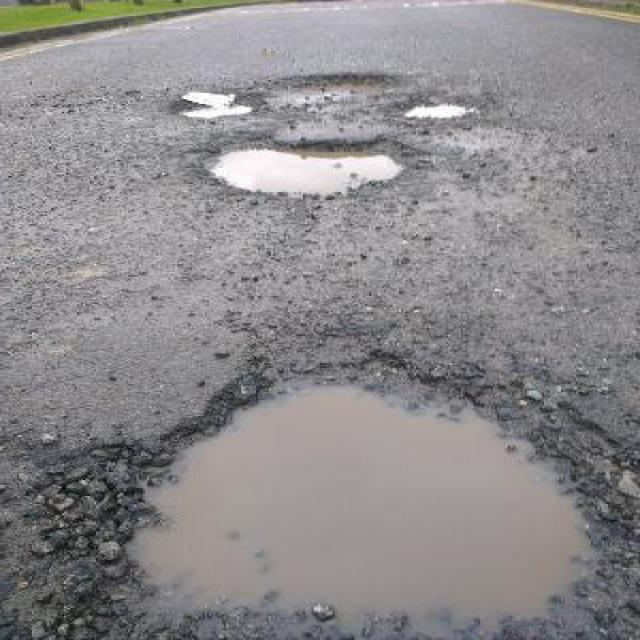pothole: (47, 341, 634, 638), (196, 134, 422, 196), (266, 70, 412, 96), (175, 84, 258, 118), (398, 95, 486, 122)
